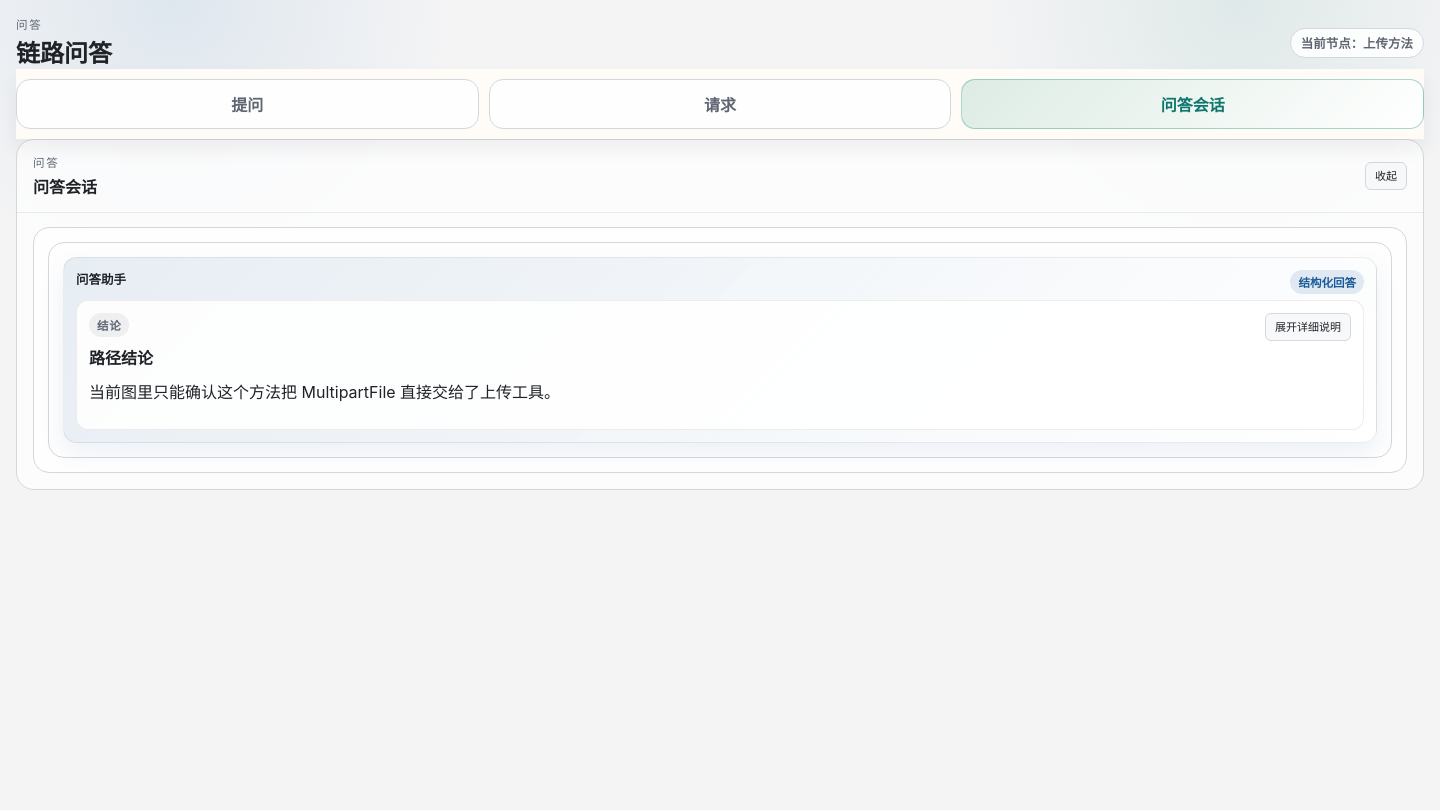
Test case: QaTab › keeps supplementary drill-down details attached to the explanatory lead-in instead of misclassifying them as risks
Click the button "展开详细说明".
click(1308, 327)  # box 1265,313 -> 1351,341
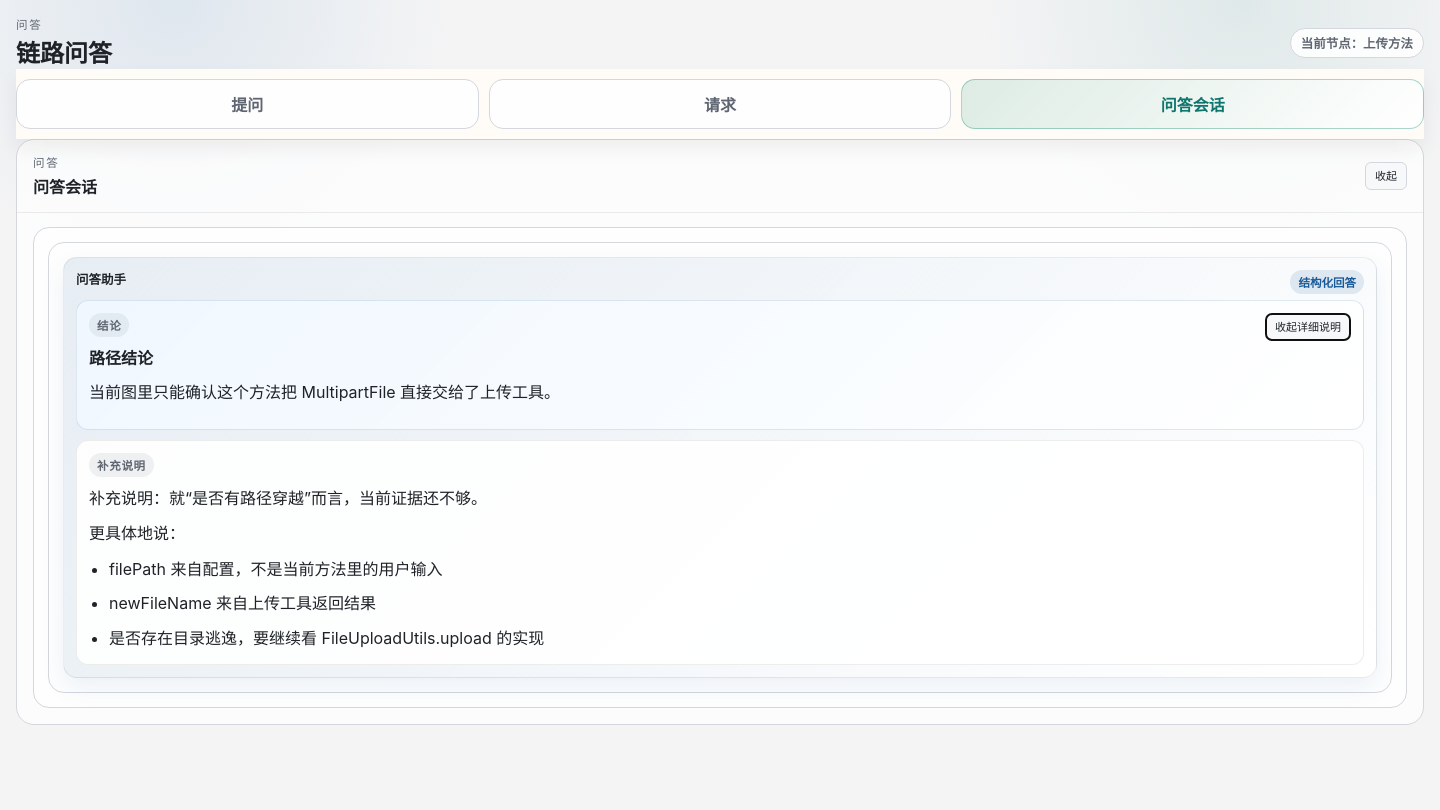
expect the text "更具体地说：" is shown: met, box 89,523 -> 185,543
expect the text "更具体地说：" shows "filePath 来自配置，不是当前方法里的用户输入": met, box 109,558 -> 442,578
expect the text "更具体地说：" shows "newFileName 来自上传工具返回结果": met, box 109,593 -> 376,613
